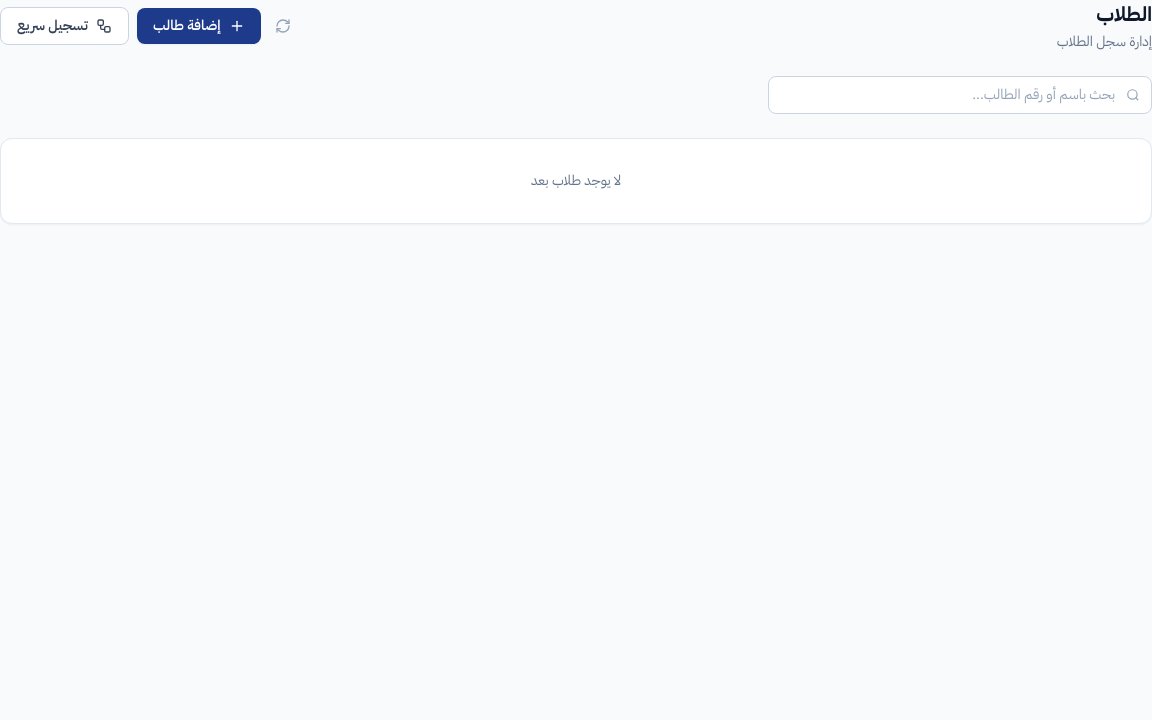
Test: add-student errors render inside the modal › shows the invalid-name error inside the open modal
This screenshot has width=1152, height=720.
Click the button "إضافة طالب" at (199,26), box [137,8,260,44]
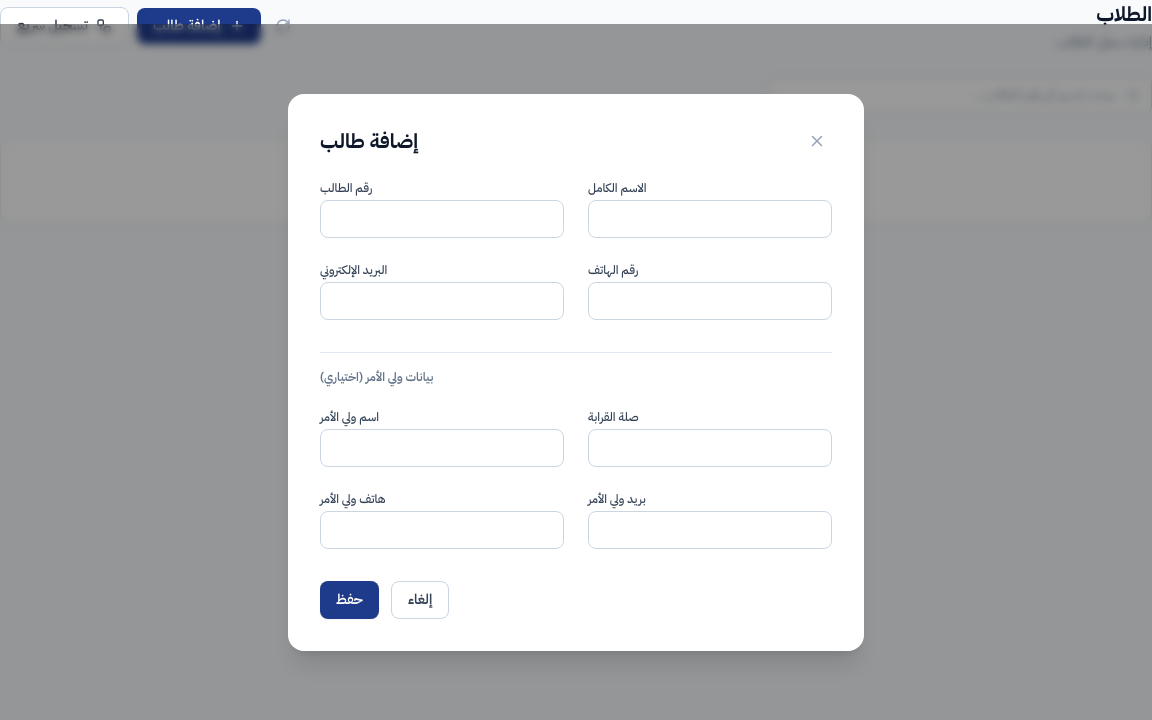
Note: Latin characters are rejected under the Arabic locale.
Type "John Smith" into the field below "الاسم الكامل" at (710,218), box [588,200,832,238]
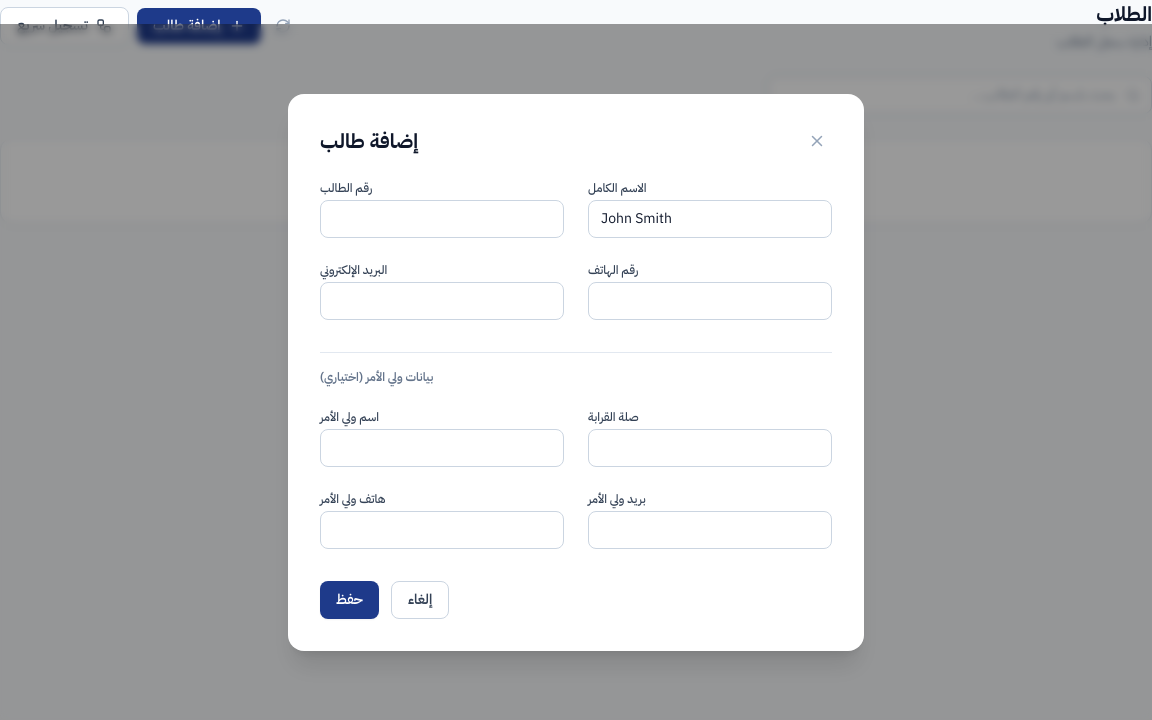
Click the button "حفظ" at (349,600), box [320,580,379,618]
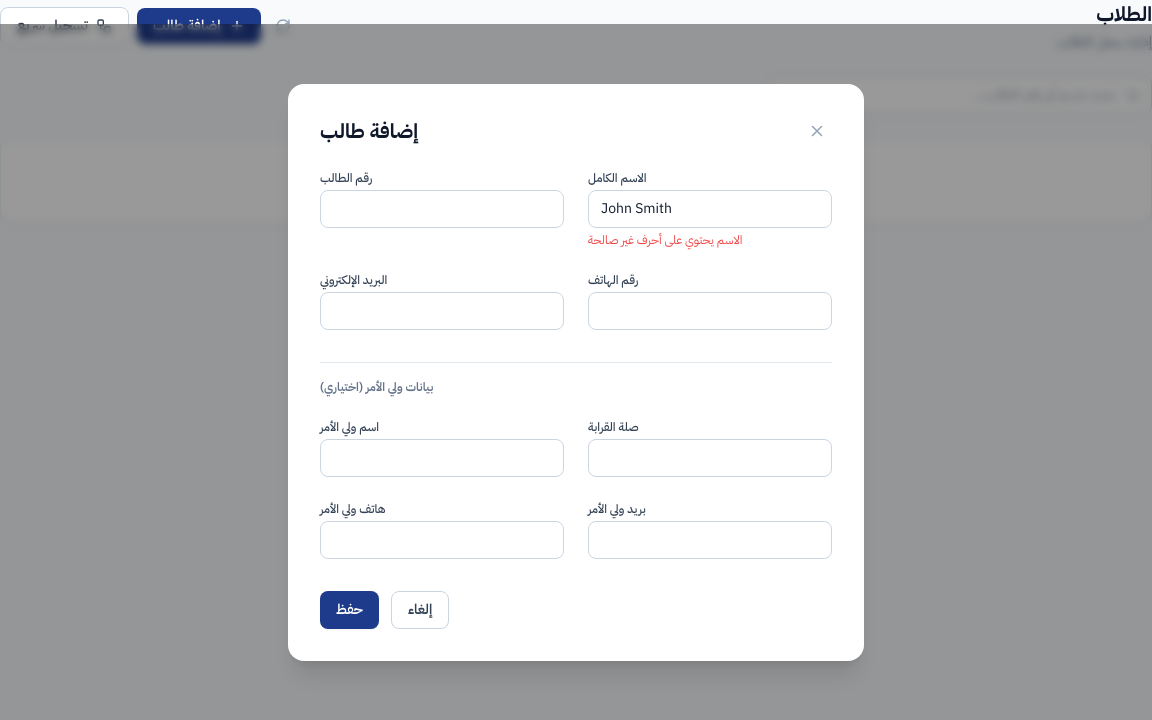
Check: the element with class "z-50" is shown
Check: the text "الاسم يحتوي على أحرف غير صالحة" is shown, box [588,230,742,248]
